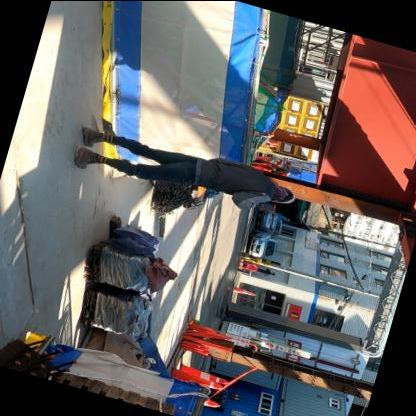safety-shoe: (61, 139, 106, 177), (73, 116, 115, 154)
